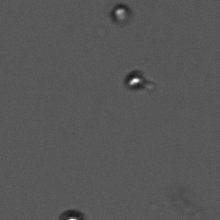Living Cell: (123, 69, 150, 93), (108, 3, 133, 24)
